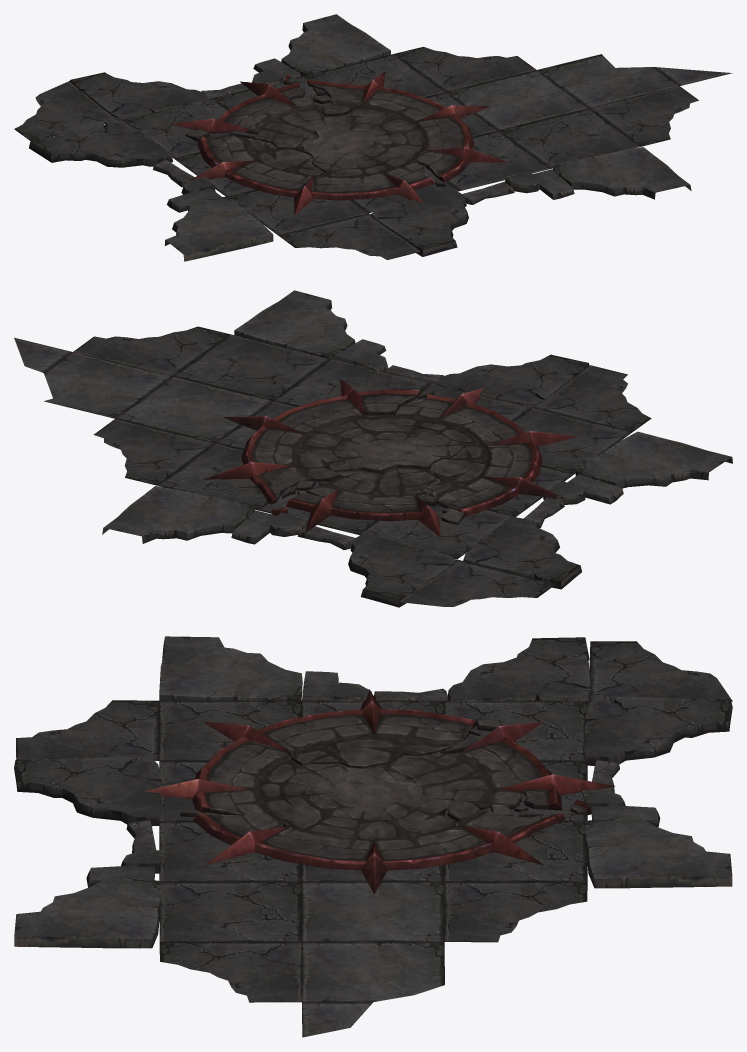
The model's file is mesh_tower_04_badak.FBX.
The picture shows the model from 3 angles, top to bottom: view 1: azimuth 30°, elevation 25°; view 2: azimuth 150°, elevation 25°; view 3: azimuth 270°, elevation 25°; orthographic projection. The views are drawn at different scales.
Parts seen in each view (by area): view 1: mesh_tower_04_badak; view 2: mesh_tower_04_badak; view 3: mesh_tower_04_badak.
Part boxes in pixels (x1,y1,x2,y2): mesh_tower_04_badak: (14,14,732,261); mesh_tower_04_badak: (14,290,732,607); mesh_tower_04_badak: (14,636,732,1037).
Size of the model in its own units: 26.44 by 0.7758 by 20.14.
